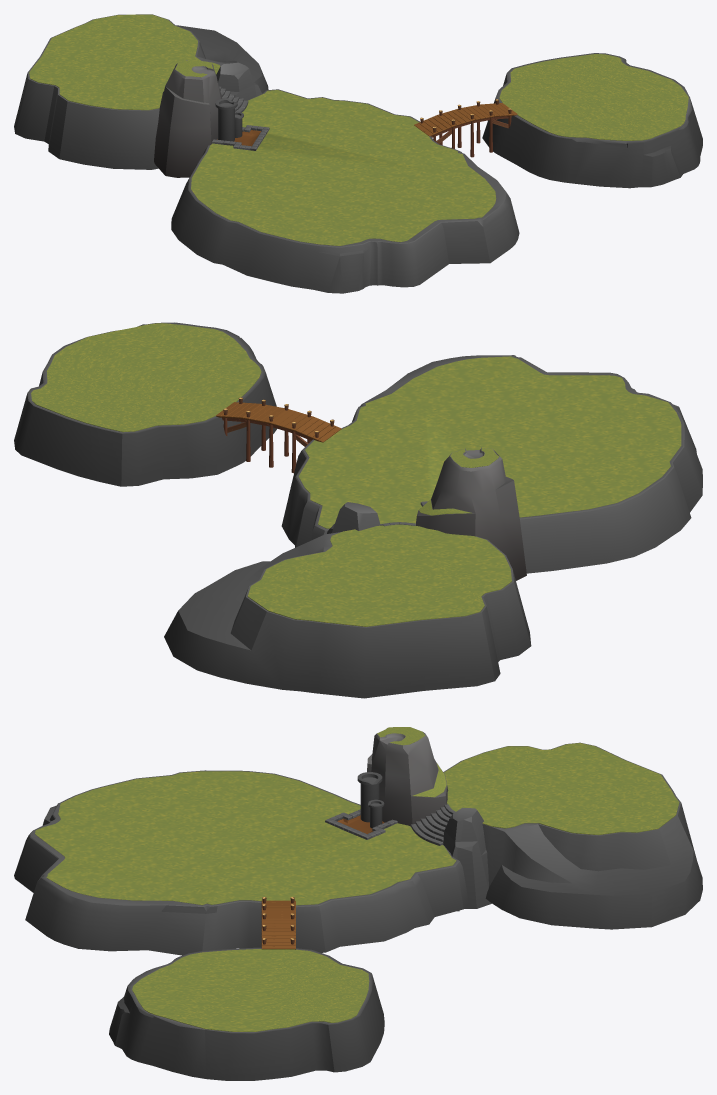
Rendered from Terrein Base.002.fbx.
3 views of the same model, one above another, from view 1: azimuth 30°, elevation 25°; view 2: azimuth 150°, elevation 25°; view 3: azimuth 270°, elevation 25° (orthographic). The views are drawn at different scales.
Visible parts, largest first — view 1: Cube, Plane, Plane.001, Plane.002, Cube.024, Cube.049, Cylinder.001, Circle; view 2: Cube, Plane.001, Plane, Plane.002, Cube.024, Cylinder.001, Cube.049; view 3: Cube, Plane.001, Plane, Plane.002, Cube.049, Cube.024, Circle.
Boxes of the visible parts, x1,y1,x2,y2 form: Cube: [171, 89, 519, 293]; Plane: [482, 53, 702, 188]; Plane.001: [14, 14, 268, 169]; Plane.002: [154, 60, 222, 177]; Cube.024: [414, 103, 517, 136]; Cube.049: [216, 62, 261, 100]; Cylinder.001: [420, 99, 511, 157]; Circle: [215, 98, 237, 141]; Cube: [281, 355, 702, 573]; Plane.001: [164, 524, 531, 698]; Plane: [14, 322, 276, 486]; Plane.002: [415, 447, 526, 580]; Cube.024: [216, 402, 341, 442]; Cylinder.001: [223, 397, 334, 473]; Cube.049: [327, 502, 380, 533]; Cube: [14, 770, 467, 955]; Plane.001: [443, 742, 702, 929]; Plane: [109, 947, 384, 1080]; Plane.002: [367, 727, 448, 826]; Cube.049: [443, 807, 491, 911]; Cube.024: [261, 900, 295, 949]; Circle: [357, 772, 382, 822].
Bounding box in the file's own units: 3038 × 601 × 3116.
